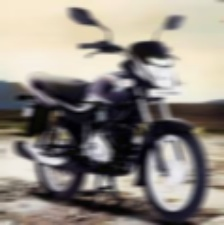Vehicle: (12, 6, 209, 224)
